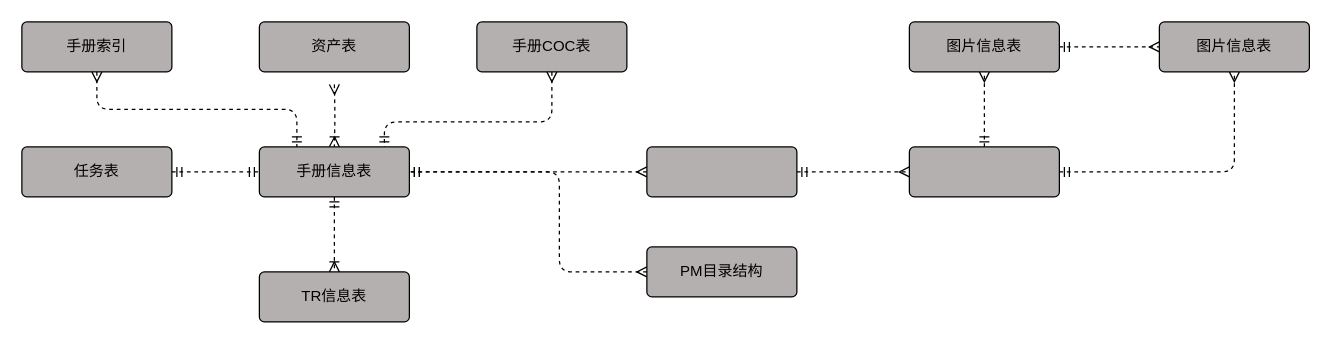
Some shapes in this 1331 by 344 pixel diagram are drawn without their labels. Here are the shapes that lost their labels. From the top down, the centre of each, then its label:
At point 721,171: "SNS目录结构".
At point 983,171: "XML信息表".
